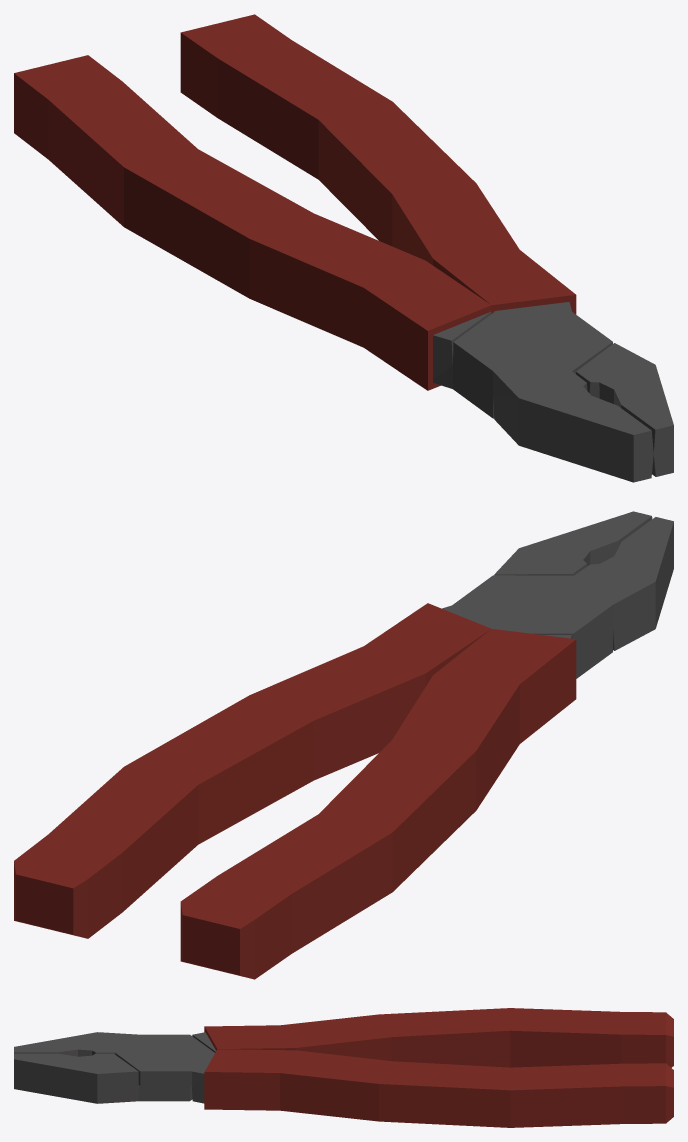
Rendered from SM_Item_Pliers_01.fbx.
3 views of the same model, one above another, from view 1: azimuth 30°, elevation 25°; view 2: azimuth 150°, elevation 25°; view 3: azimuth 270°, elevation 25° (orthographic). The views are drawn at different scales.
Parts seen in each view (by area): view 1: SM_Item_Pliers_01; view 2: SM_Item_Pliers_01; view 3: SM_Item_Pliers_01.
Part boxes in pixels (left/top/right/bottom): SM_Item_Pliers_01: left=14, top=14, right=673, bottom=482; SM_Item_Pliers_01: left=14, top=511, right=673, bottom=979; SM_Item_Pliers_01: left=14, top=1008, right=673, bottom=1127.
Size of the model in its own units: 9.14 by 1.95 by 30.95.
